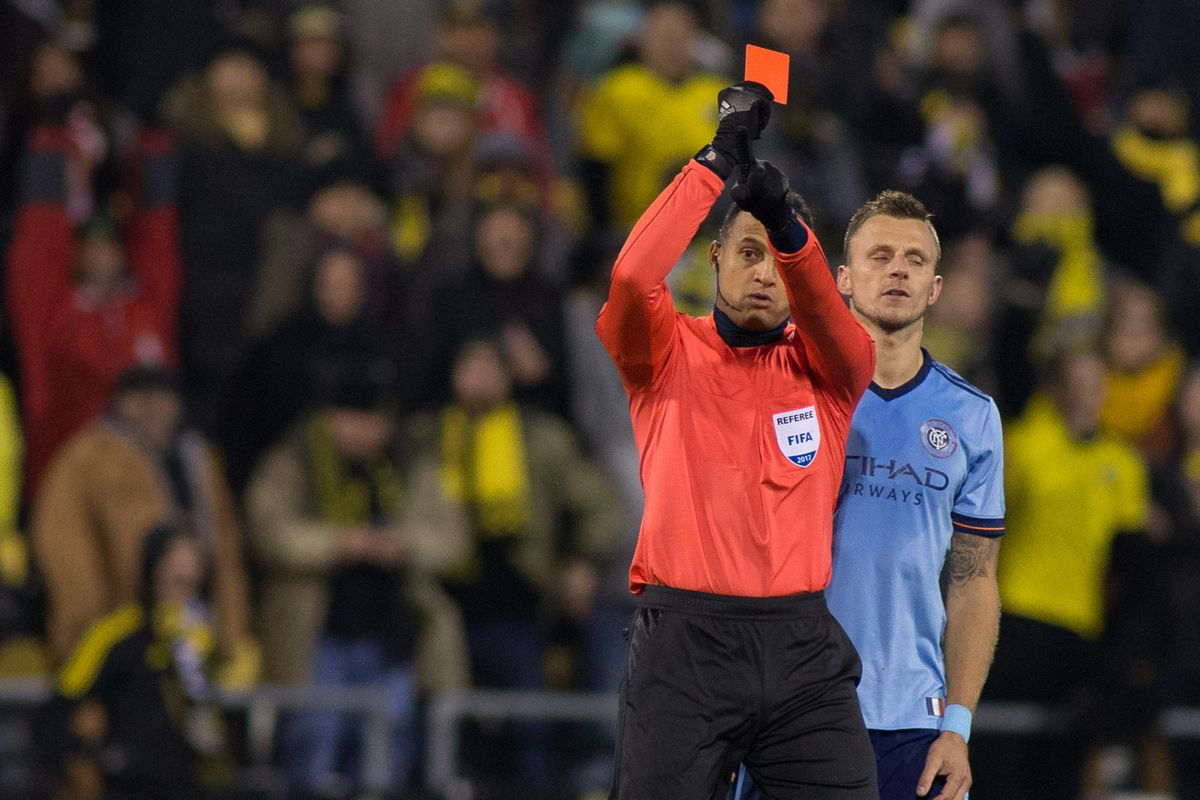red_card: (707, 38, 801, 162)
